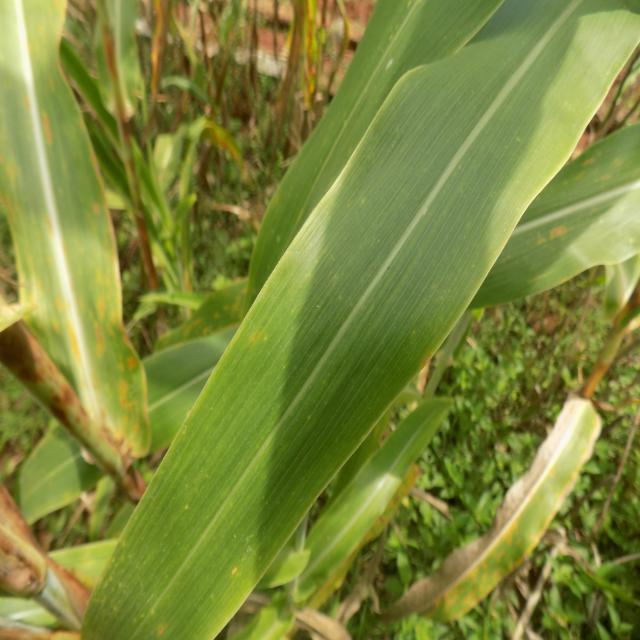millet_healthy: (82, 0, 640, 640), (246, 0, 509, 331)
